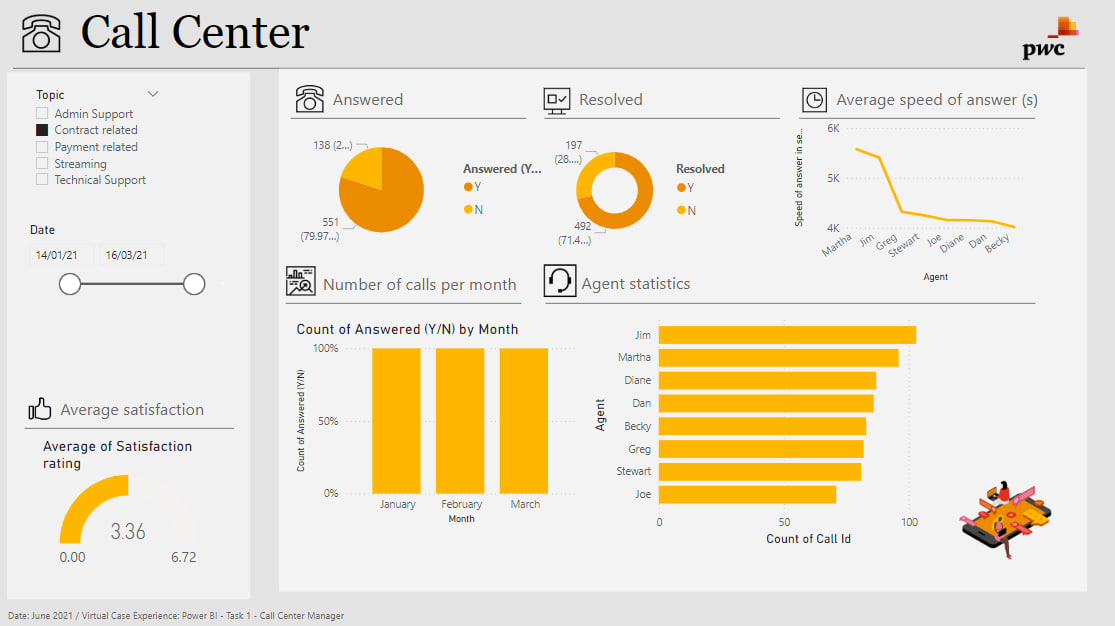

This screenshot's page, from the dashboard's own definition file:
{"tool":"powerbi","page":{"name":"Call Center Manager","canvas":[1280,720],"ordinal":0},"visuals":[{"type":"textbox","box":[89.7,4.8,1172,75.2],"z":0},{"type":"basicShape","box":[9,61,1244.3,40.1],"z":1000},{"type":"basicShape","box":[8.7,80.1,283.6,614.4],"z":2000},{"type":"basicShape","box":[312.5,75,942.5,610],"z":3000},{"type":"image","box":[1129,0,151,94.5],"z":4000},{"type":"image","box":[24.1,7.7,53.1,68.5],"z":5000},{"type":"image","box":[31.1,452.4,35.7,35.7],"z":6000},{"type":"textbox","box":[66.8,452.4,188.1,35.7],"z":7000},{"type":"basicShape","box":[21.2,472.5,259.1,40.2],"z":8000},{"type":"textbox","box":[378.6,98.3,172,35.7],"z":9000},{"type":"textbox","box":[660.1,98.3,183.2,35.7],"z":10000},{"type":"basicShape","box":[906.9,118.4,289.3,40.2],"z":11000},{"type":"textbox","box":[953.9,98.3,250.2,35.7],"z":12000},{"type":"basicShape","box":[325,118.4,289,40.2],"z":13000},{"type":"basicShape","box":[616,118.4,289,40.2],"z":14000},{"type":"image","box":[915.9,88.2,38,59.2],"z":15000},{"type":"image","box":[337.3,94.9,41.3,43.6],"z":16000},{"type":"image","box":[619.9,88.2,40.2,61.4],"z":17000},{"type":"textbox","box":[367.4,310.5,250.2,35.7],"z":18000},{"type":"basicShape","box":[320.5,330.6,289.3,40.2],"z":19000},{"type":"textbox","box":[663.4,309.3,250.2,35.7],"z":20000},{"type":"basicShape","box":[616.5,329.5,579.7,40.2],"z":21000},{"type":"image","box":[620,295,47,56],"z":22000},{"type":"image","box":[325,290.4,43.6,69.2],"z":23000},{"type":"image","box":[1051.4,498.6,215.7,187.1],"z":24000},{"type":"textbox","box":[7.7,691.6,403.2,28],"z":25000},{"type":"pieChart","fields":{"Category":["Call Center.Answered (Y/N)"],"Y":["Call Center.Answered (Y/N)"]},"box":[341.3,148.7,290,144],"z":26000},{"type":"donutChart","fields":{"Category":["Call Center.Resolved"],"Y":["Call Center.Resolved"]},"box":[631.1,148.9,224.4,145.6],"z":27000},{"type":"hundredPercentStackedColumnChart","fields":{"Y":["Call Center.Answered (Y/N)"],"Category":["Call Center.Date.Variation.Date Hierarchy.Month"]},"box":[337,368,330,239],"z":28000},{"type":"clusteredBarChart","fields":{"Y":["Call Center.Call Id"],"Category":["Call Center.Agent"]},"box":[675.7,352.9,438.6,280],"z":29000},{"type":"lineChart","fields":{"Category":["Call Center.Agent"],"Y":["Call Center.Speed of answer in seconds"]},"box":[906.2,135,272.5,195],"z":30000},{"type":"gauge","fields":{"Y":["Call Center.Satisfaction rating"]},"box":[47.5,502.5,205.8,158.3],"z":31000},{"type":"slicer","fields":{"Values":["Call Center.Topic"]},"box":[30.9,98.2,165.5,197.3],"z":32000},{"type":"slicer","fields":{"Values":["Call Center.Date"]},"box":[24.4,253.3,256.7,196.7],"z":33000}]}

Visuals, with their boxes in screenshot pixels (x1, y1, x2, y2), scaled from the page's 1280x720 canvas onto the 1115x626 screenshot:
textbox: box(78, 4, 1099, 70)
basicShape: box(8, 53, 1092, 88)
basicShape: box(8, 70, 255, 604)
basicShape: box(272, 65, 1093, 596)
image: box(983, 0, 1114, 82)
image: box(21, 7, 67, 66)
image: box(27, 393, 58, 424)
textbox: box(58, 393, 222, 424)
basicShape: box(18, 411, 244, 446)
textbox: box(330, 85, 480, 117)
textbox: box(575, 85, 735, 117)
basicShape: box(790, 103, 1042, 138)
textbox: box(831, 85, 1049, 117)
basicShape: box(283, 103, 535, 138)
basicShape: box(537, 103, 788, 138)
image: box(798, 77, 831, 128)
image: box(294, 83, 330, 120)
image: box(540, 77, 575, 130)
textbox: box(320, 270, 538, 301)
basicShape: box(279, 287, 531, 322)
textbox: box(578, 269, 796, 300)
basicShape: box(537, 286, 1042, 321)
image: box(540, 256, 581, 305)
image: box(283, 252, 321, 313)
image: box(916, 434, 1104, 596)
textbox: box(7, 601, 358, 625)
pieChart - Call Center.Answered (Y/N) x Call Center.Answered (Y/N): box(297, 129, 550, 254)
donutChart - Call Center.Resolved x Call Center.Resolved: box(550, 129, 745, 256)
hundredPercentStackedColumnChart - Call Center.Answered (Y/N) x Call Center.Date.Variation.Date Hierarchy.Month: box(294, 320, 581, 528)
clusteredBarChart - Call Center.Call Id x Call Center.Agent: box(589, 307, 971, 550)
lineChart - Call Center.Agent x Call Center.Speed of answer in seconds: box(789, 117, 1027, 287)
gauge - Call Center.Satisfaction rating: box(41, 437, 221, 575)
slicer - Call Center.Topic: box(27, 85, 171, 257)
slicer - Call Center.Date: box(21, 220, 245, 391)
